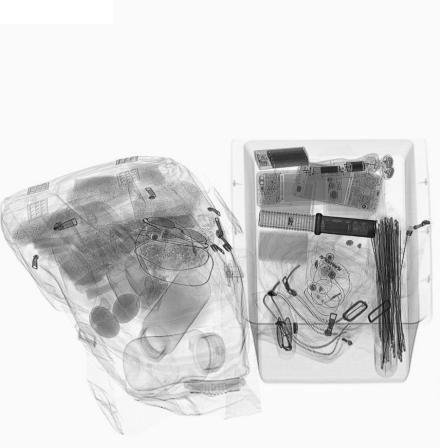Powerbank: (252, 145, 311, 170)
